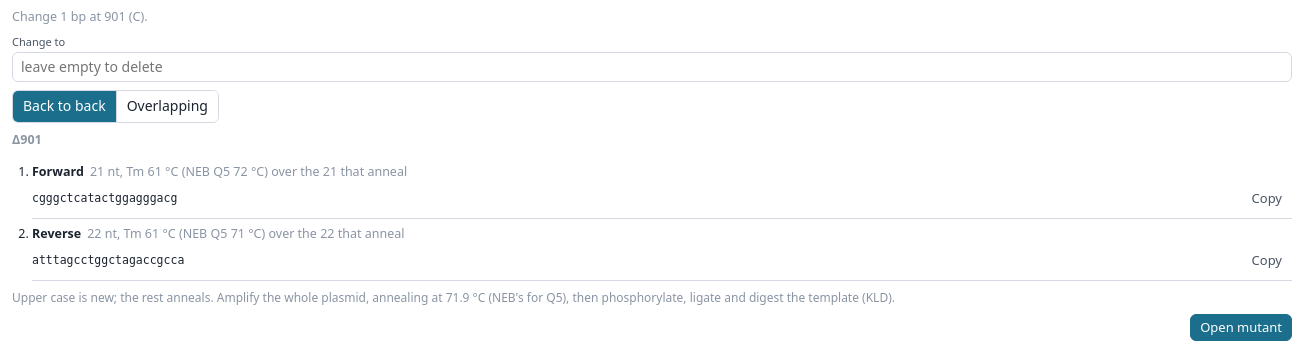
Scenario: MutagenesisPanel › switches between the two designs, and says how each is used
The width and height of the screenshot is (1304, 358).
Type "G" into the field labelled "Change to" at (652, 67), box [12,52,1292,82]
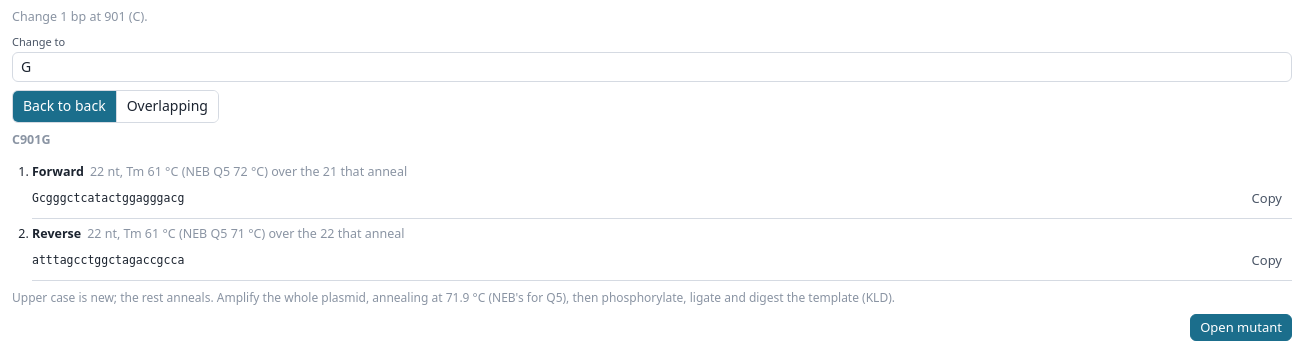
Expected: the text "phosphorylate, ligate and digest the template (KLD)" is shown, [12,289,895,306]
Click the button "Overlapping" at (167, 107), box [116,91,218,122]
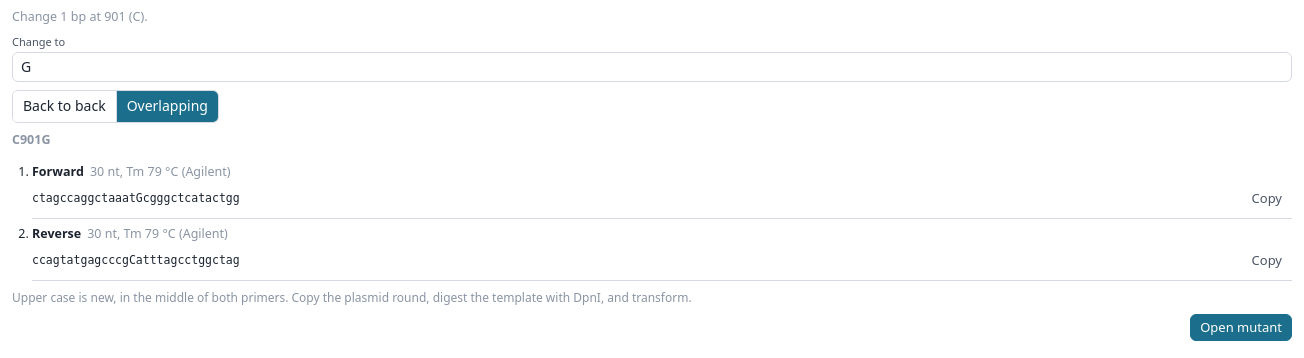
Expected: the text "digest the template with DpnI" is shown, [12,289,692,306]
Expected: the text "(KLD)" is gone
